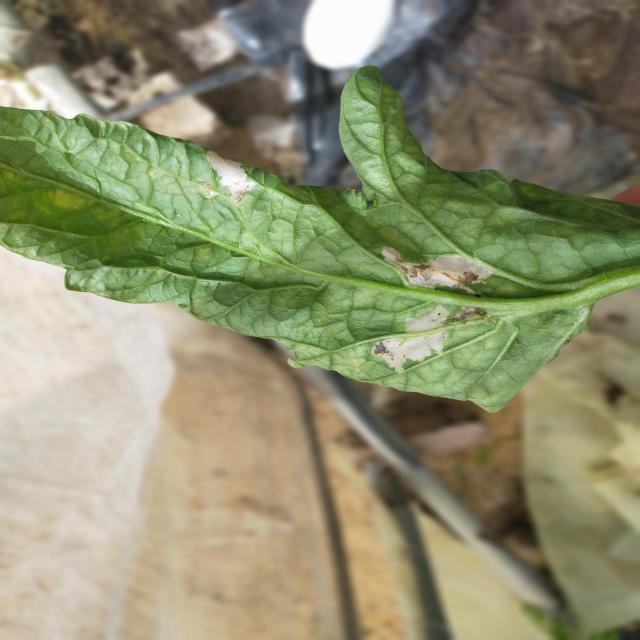Tuta absoluta: (378, 242, 495, 298), (200, 141, 260, 208), (369, 330, 451, 376), (403, 304, 452, 338)
